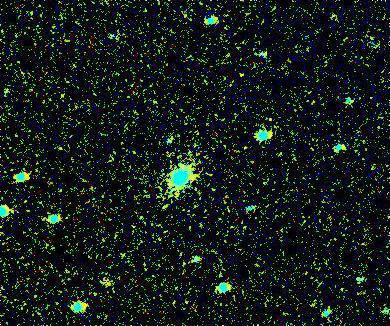star: (91, 268, 121, 298)
